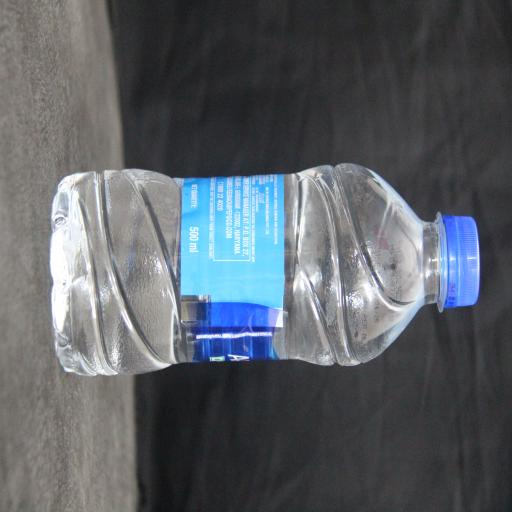Aquafina: (109, 49, 244, 512)
